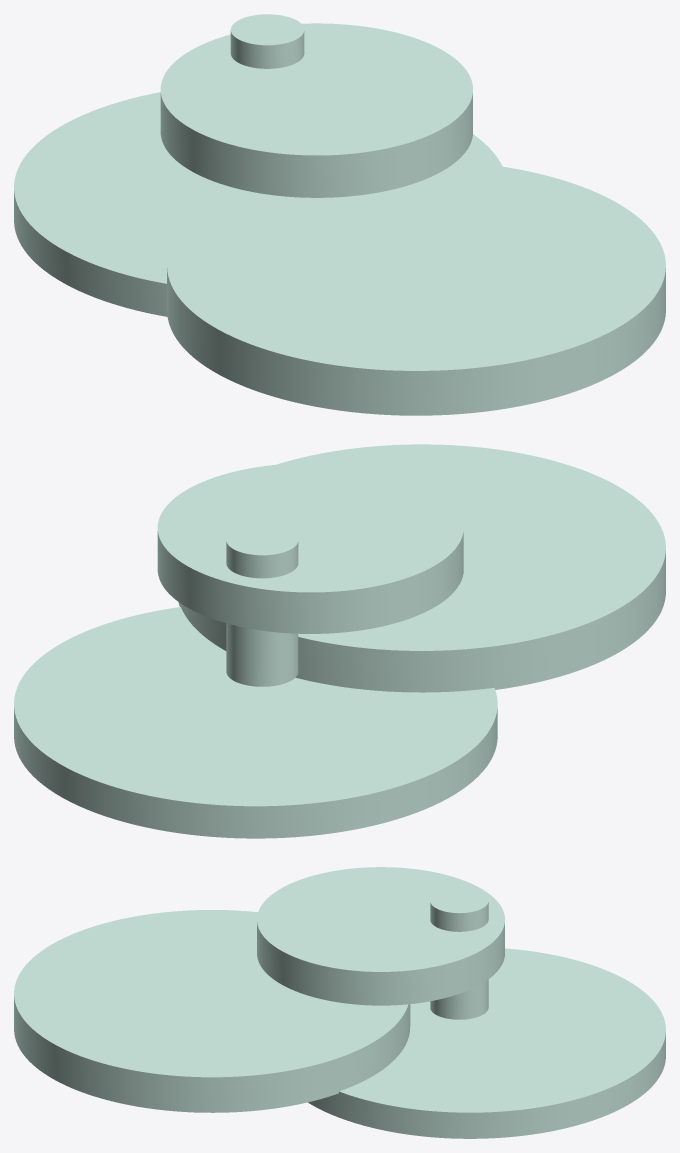
The picture shows the model from 3 angles, top to bottom: view 1: azimuth 30°, elevation 25°; view 2: azimuth 150°, elevation 25°; view 3: azimuth 270°, elevation 25°; orthographic projection. The views are drawn at different scales.
Parts seen in each view (by area): view 1: Renderer Node; view 2: Renderer Node; view 3: Renderer Node.
Boxes of the visible parts, box(x1,y1,x2,y2) form: Renderer Node: box(14, 14, 665, 415); Renderer Node: box(14, 444, 665, 838); Renderer Node: box(14, 867, 665, 1138).
Bounding box in the file's own units: 1.52 × 0.6484 × 2.47.
